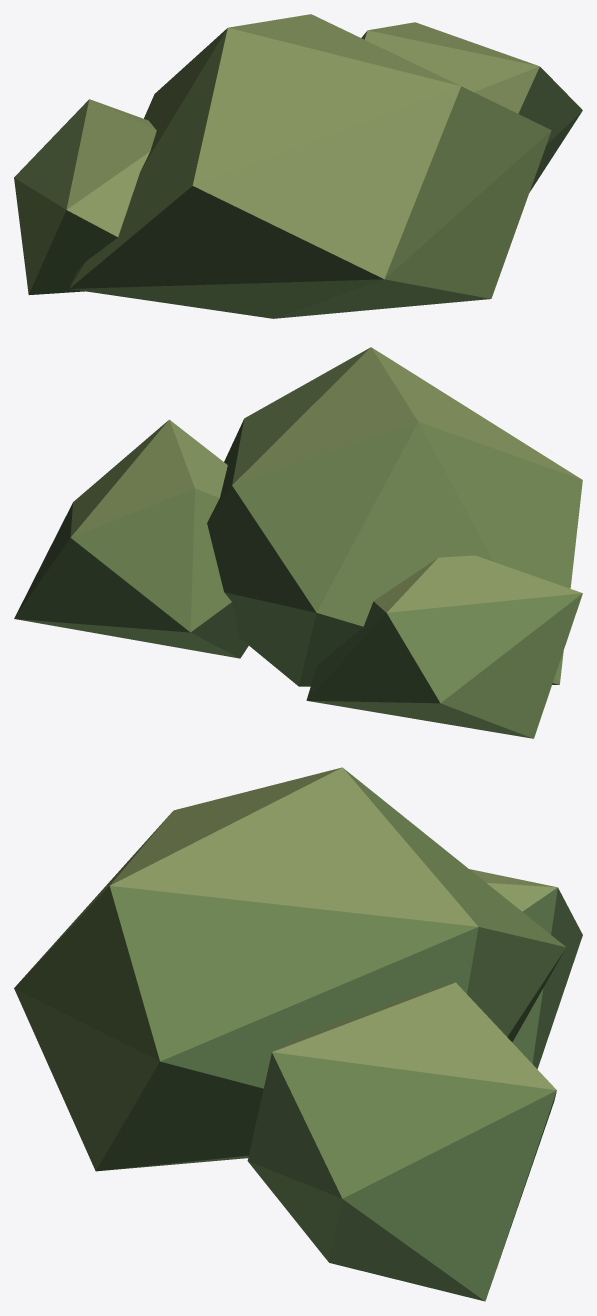
File: prop_temperate_bush_0.glb
The picture shows the model from 3 angles, top to bottom: view 1: azimuth 30°, elevation 25°; view 2: azimuth 150°, elevation 25°; view 3: azimuth 270°, elevation 25°; orthographic projection. The views are drawn at different scales.
Visible parts, largest first — view 1: Body; view 2: Body; view 3: Body.
Part boxes in pixels (x1=…): Body: x1=14, y1=14, x2=582, y2=318; Body: x1=14, y1=347, x2=582, y2=738; Body: x1=14, y1=767, x2=582, y2=1301.
Bounding box in the file's own units: 1.06 × 0.4995 × 0.7926.
